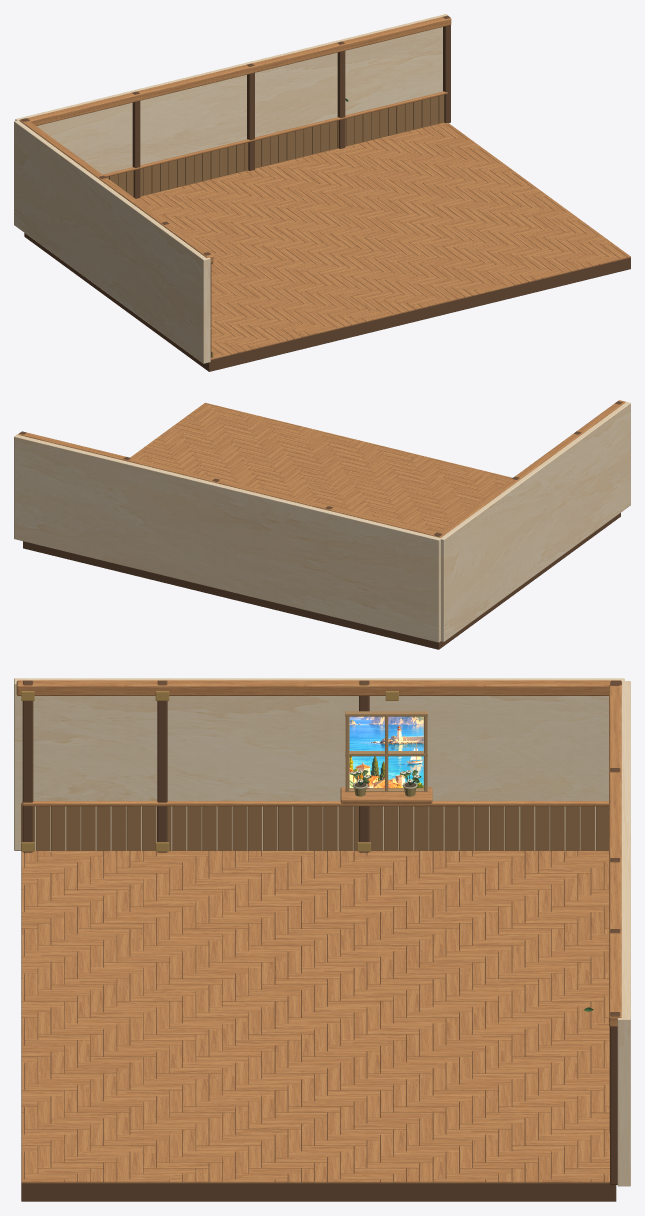
The picture shows the model from 3 angles, top to bottom: view 1: azimuth 30°, elevation 25°; view 2: azimuth 150°, elevation 25°; view 3: azimuth 270°, elevation 25°; orthographic projection. The views are drawn at different scales.
Parts seen in each view (by area): view 1: workshop_oak, workshop_plaster_paint, workshop_wood_dark, workshop_wood; view 2: workshop_plaster_paint, workshop_oak, workshop_wood_dark; view 3: workshop_oak, workshop_plaster_paint, workshop_wood_dark, workshop_wood, workshop_harbour, workshop_wood_edge, workshop_brass.
Part boxes in pixels (left/top/right/bottom): workshop_oak: left=19, top=17, right=630, bottom=359; workshop_plaster_paint: left=14, top=14, right=449, bottom=363; workshop_wood_dark: left=20, top=15, right=630, bottom=371; workshop_wood: left=106, top=95, right=444, bottom=196; workshop_plaster_paint: left=14, top=401, right=630, bottom=642; workshop_oak: left=18, top=400, right=625, bottom=537; workshop_wood_dark: left=19, top=401, right=622, bottom=649; workshop_oak: left=16, top=680, right=621, bottom=1182; workshop_plaster_paint: left=14, top=678, right=630, bottom=1186; workshop_wood_dark: left=21, top=680, right=621, bottom=1201; workshop_wood: left=21, top=802, right=608, bottom=851; workshop_harbour: left=349, top=716, right=423, bottom=787; workshop_wood_edge: left=345, top=711, right=427, bottom=791; workshop_brass: left=21, top=691, right=398, bottom=851.
Bounding box in the file's own units: 14.41 × 3.71 × 11.01.
Materials: 14 (3 with a texture image).
